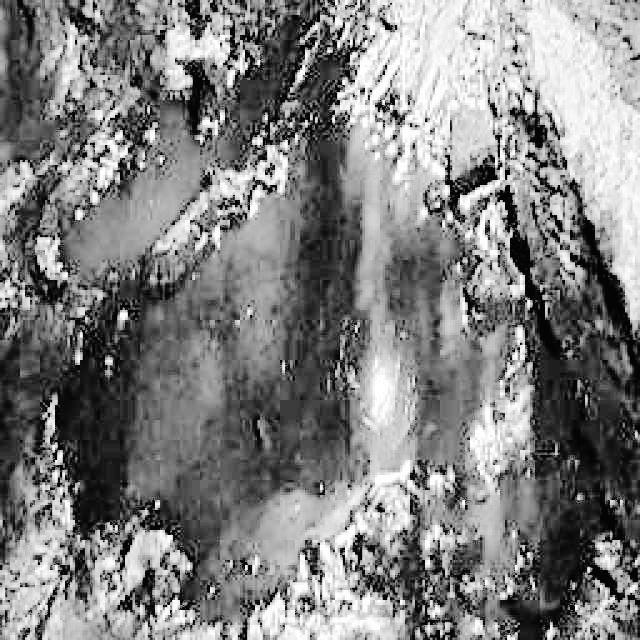Pothole: (20, 13, 640, 631)
